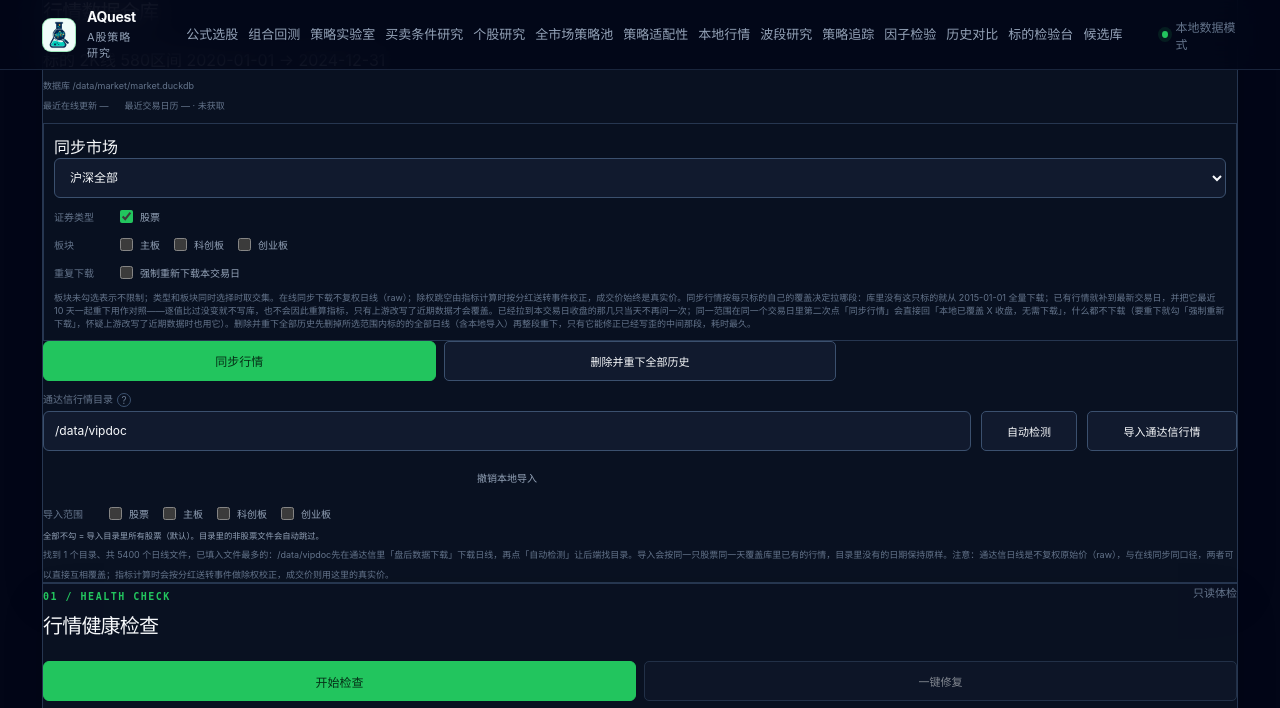
Scenario: MarketDataPage › uses one-click sync to update online data without importing local files
The image size is (1280, 708).
(page scrolled)
Step 1. Click the button with test id "market-sync-online" → (239, 361), box [43, 341, 436, 381]
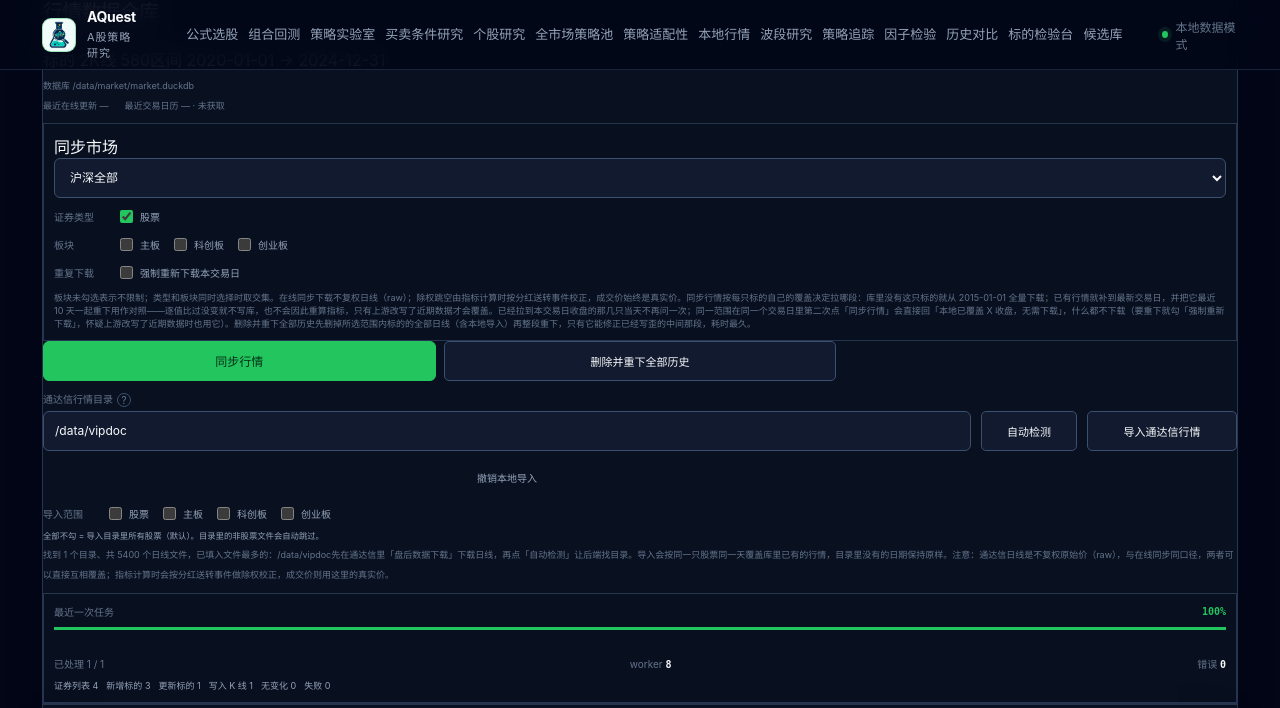
Check: the element with test id "market-data-progress" shows "更新标的 1", box [158, 680, 201, 691]
Check: the element with test id "market-data-progress" shows "写入 K 线 1", box [209, 680, 253, 691]
Check: the element with test id "market-data-progress" shows "证券列表 4", box [54, 680, 98, 691]
